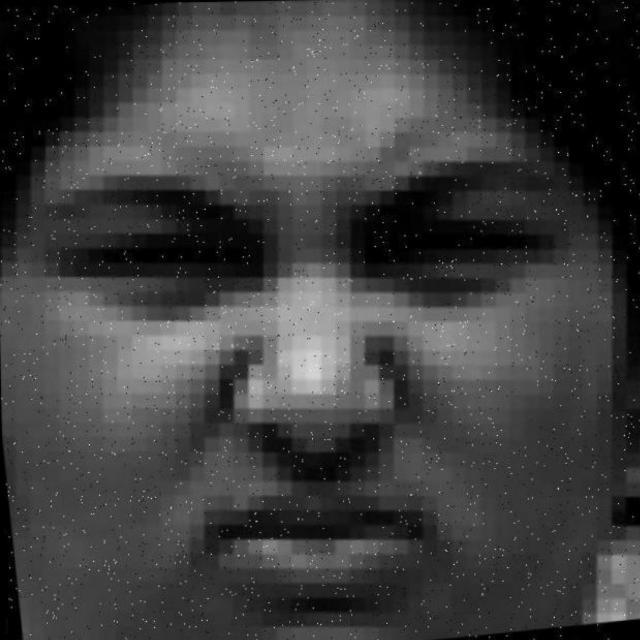angry: (0, 67, 640, 631)
